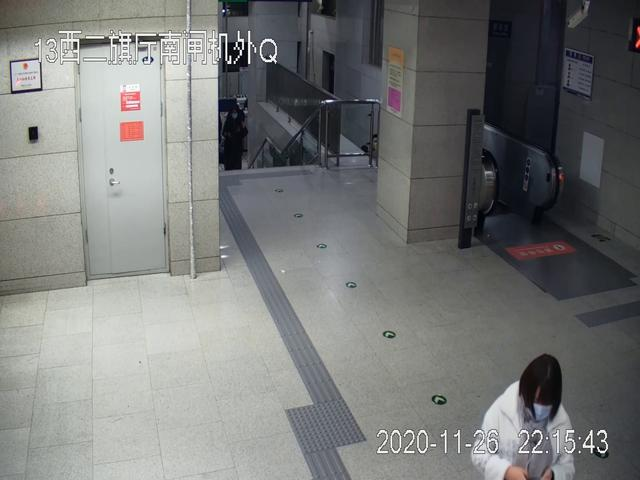person: (467, 355, 576, 480)
